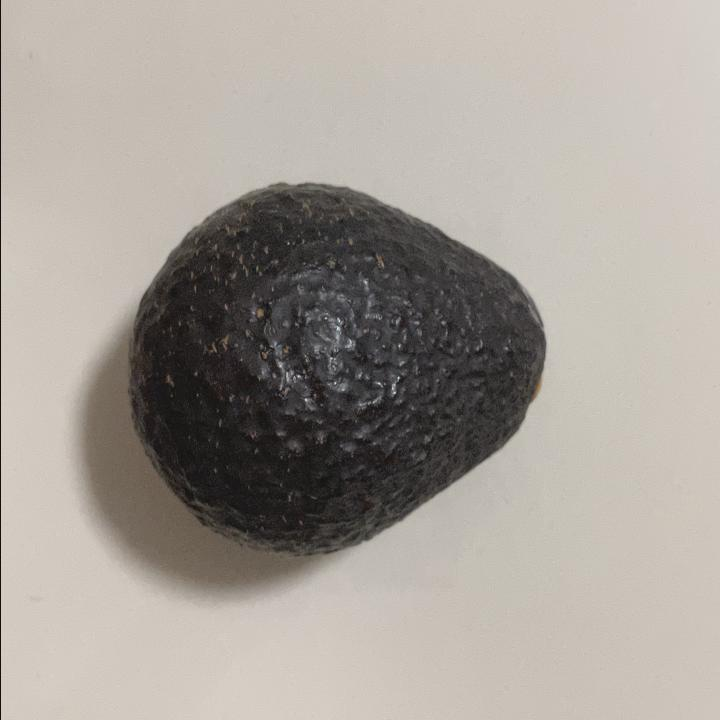Level3: (121, 169, 557, 568)
